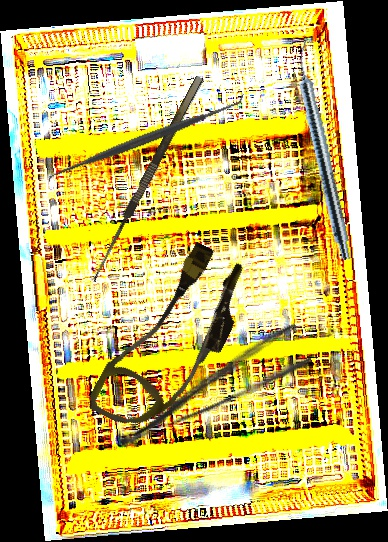Cannula: (85, 230, 260, 450)
Dressing Forceps: (105, 321, 314, 451)
Handpiece: (288, 40, 358, 262)
Hook Surgical: (88, 75, 215, 289)
Spatula Surgical: (42, 88, 251, 188)
